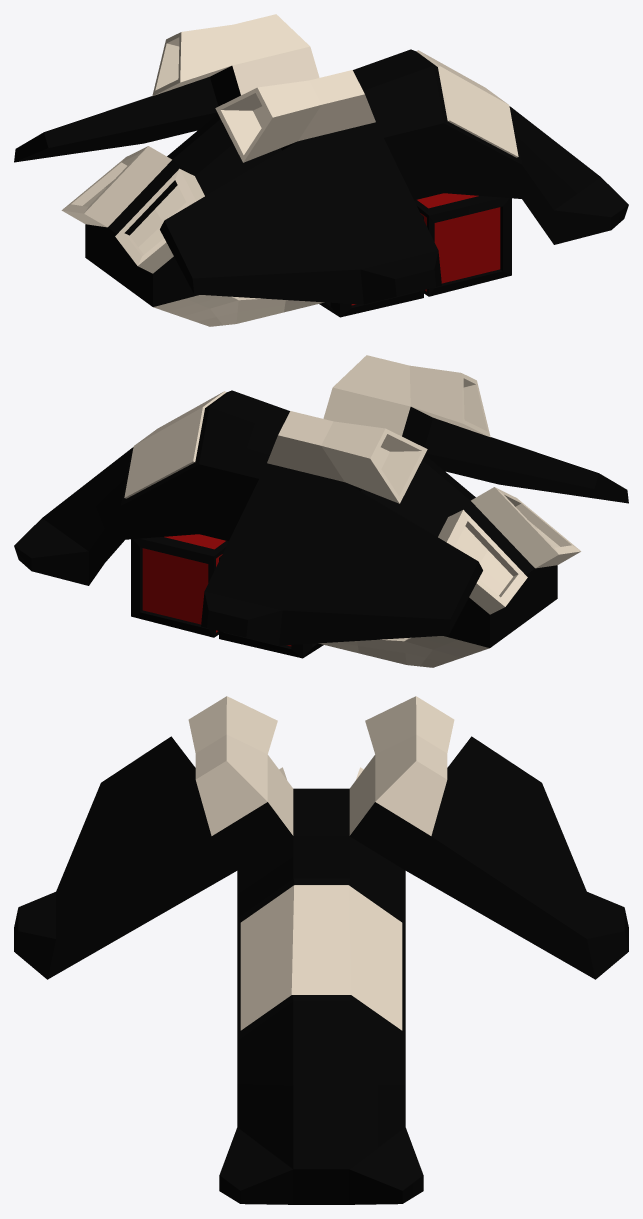
The model's file is Ship3.fbx.
3 renders of one model, top to bottom at view 1: azimuth 30°, elevation 25°; view 2: azimuth 150°, elevation 25°; view 3: azimuth 270°, elevation 25°, orthographic. The views are drawn at different scales.
Parts seen in each view (by area): view 1: Cube.002; view 2: Cube.002; view 3: Cube.002.
Part boxes in pixels (x1,y1,x2,y2): Cube.002: [14, 14, 628, 326]; Cube.002: [14, 355, 628, 667]; Cube.002: [14, 696, 628, 1204].
Size of the model in its own units: 8.48 by 4.24 by 7.3.
